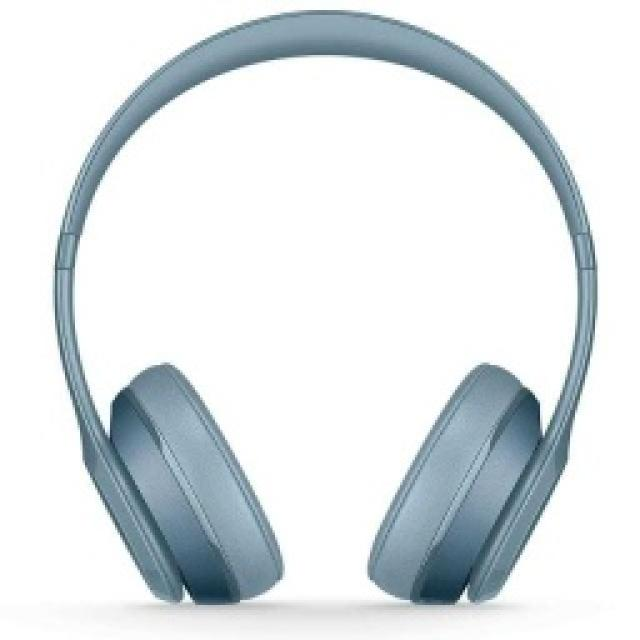headphones: (50, 5, 598, 605)
